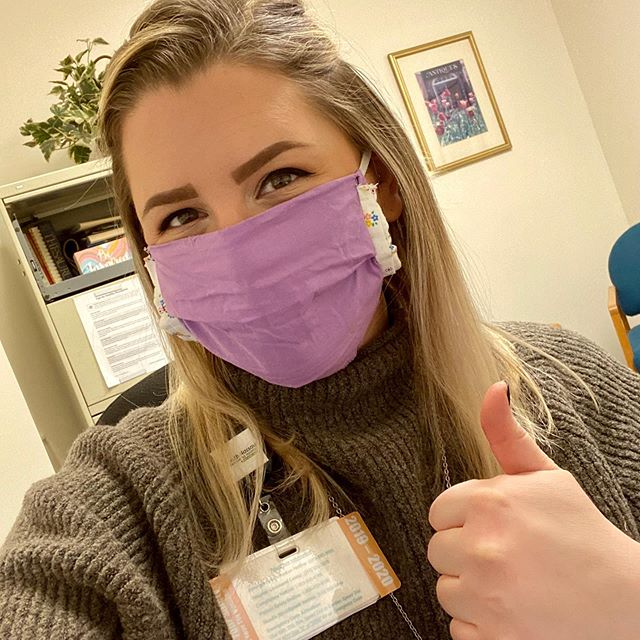homemade: (123, 190, 397, 392)
